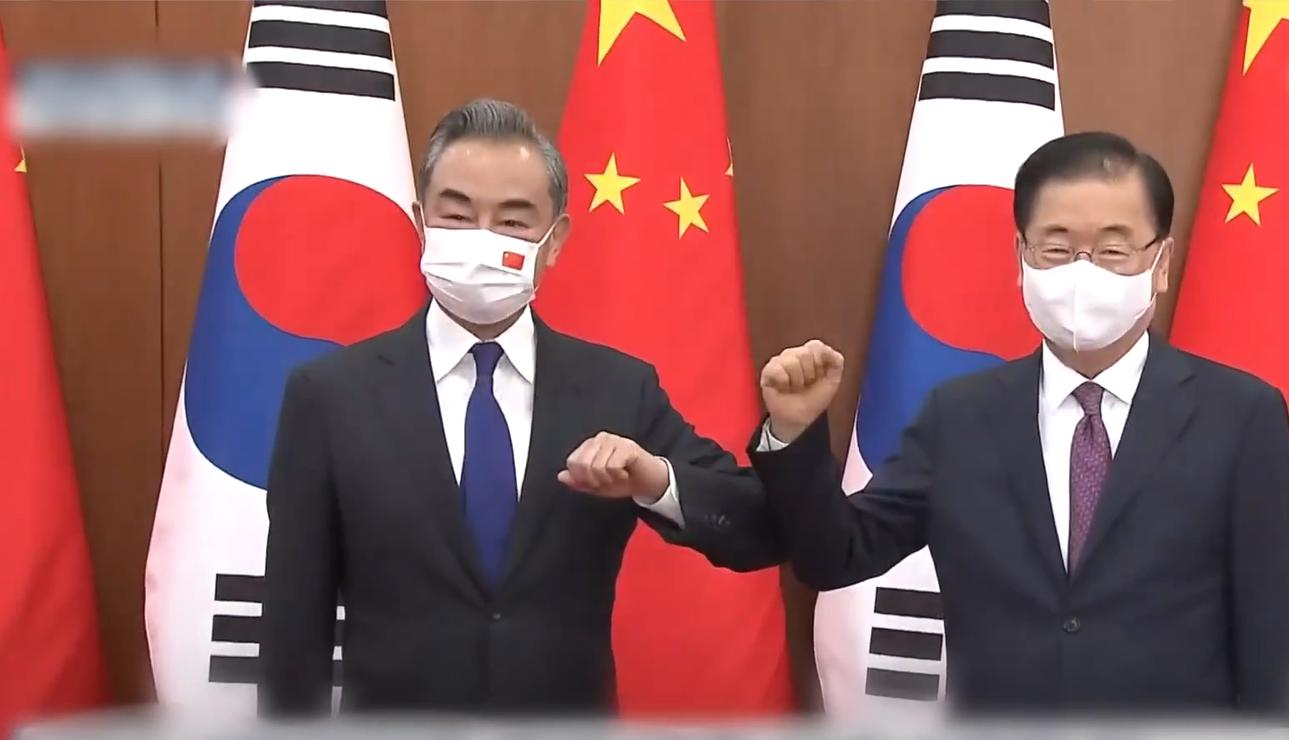with_mask: (434, 198, 537, 304), (1034, 224, 1138, 328)
